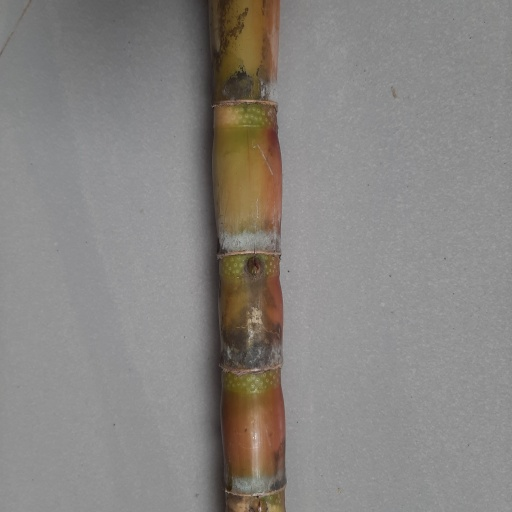Bud: (245, 256, 263, 276)
